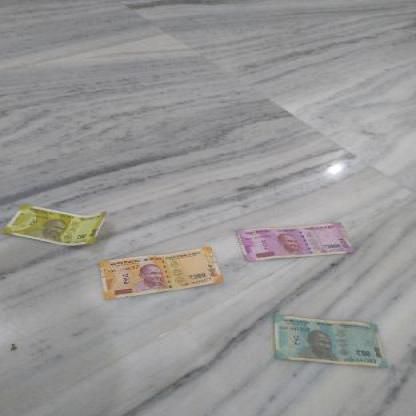New2000Front: (232, 221, 355, 261)
New200Front: (96, 245, 224, 298)
New20Front: (4, 202, 107, 249)
New50Front: (275, 314, 388, 364)
